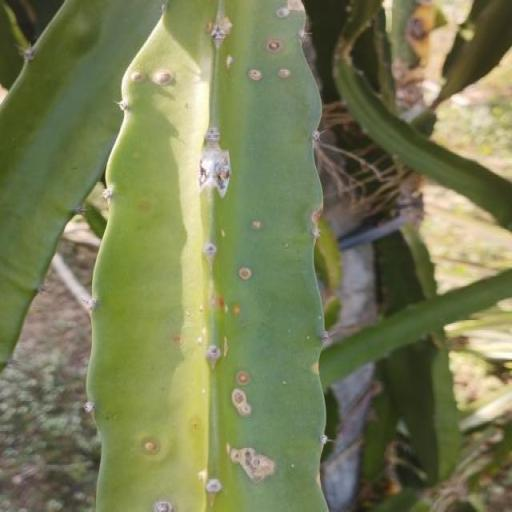stemcanker: (133, 422, 170, 486), (245, 58, 296, 95), (244, 197, 264, 249), (223, 42, 236, 86), (216, 218, 233, 251), (229, 297, 246, 326)
